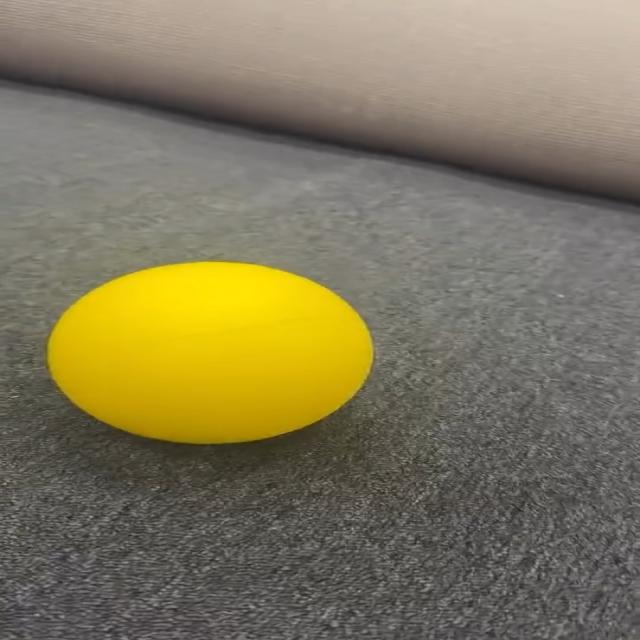Fuels: (49, 262, 374, 442)
